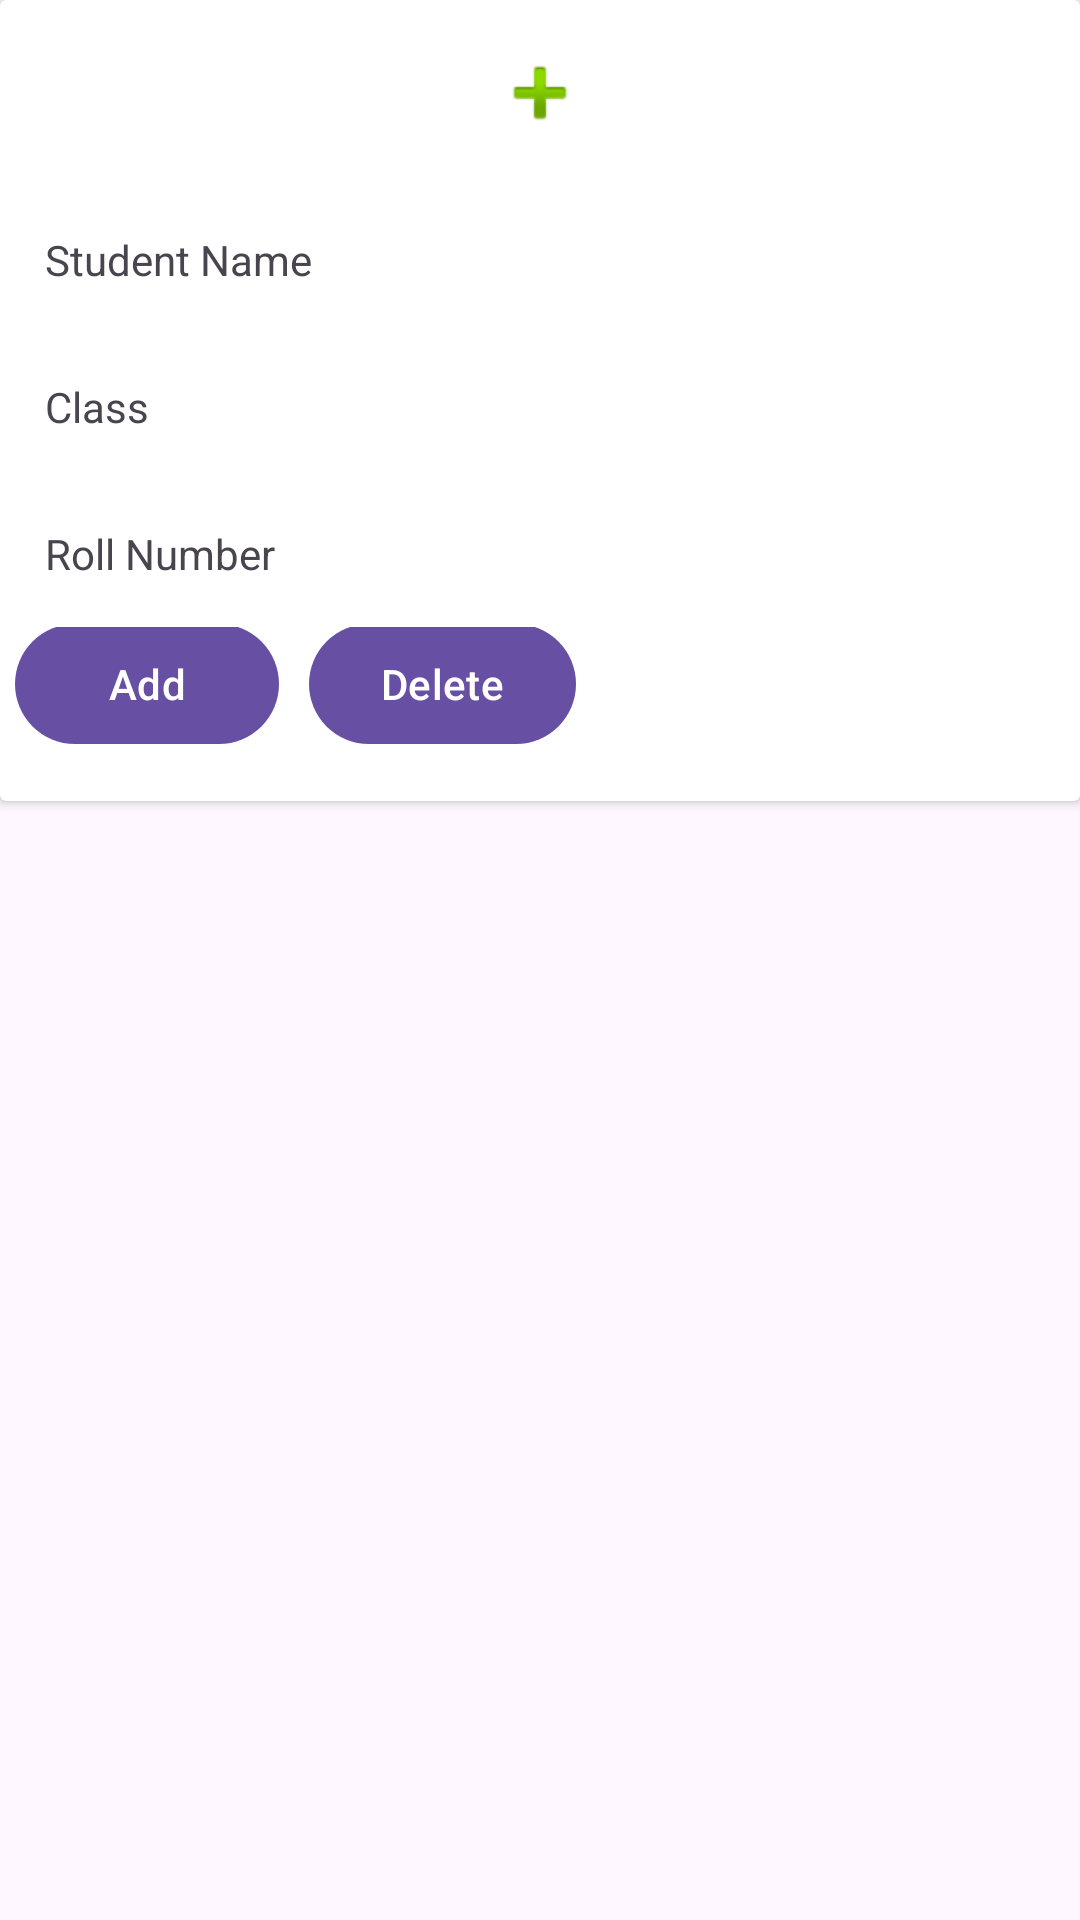

Point at icon controls on the screen. Image size 1080 x 1920, points as (x,y).
add: (540,93)
